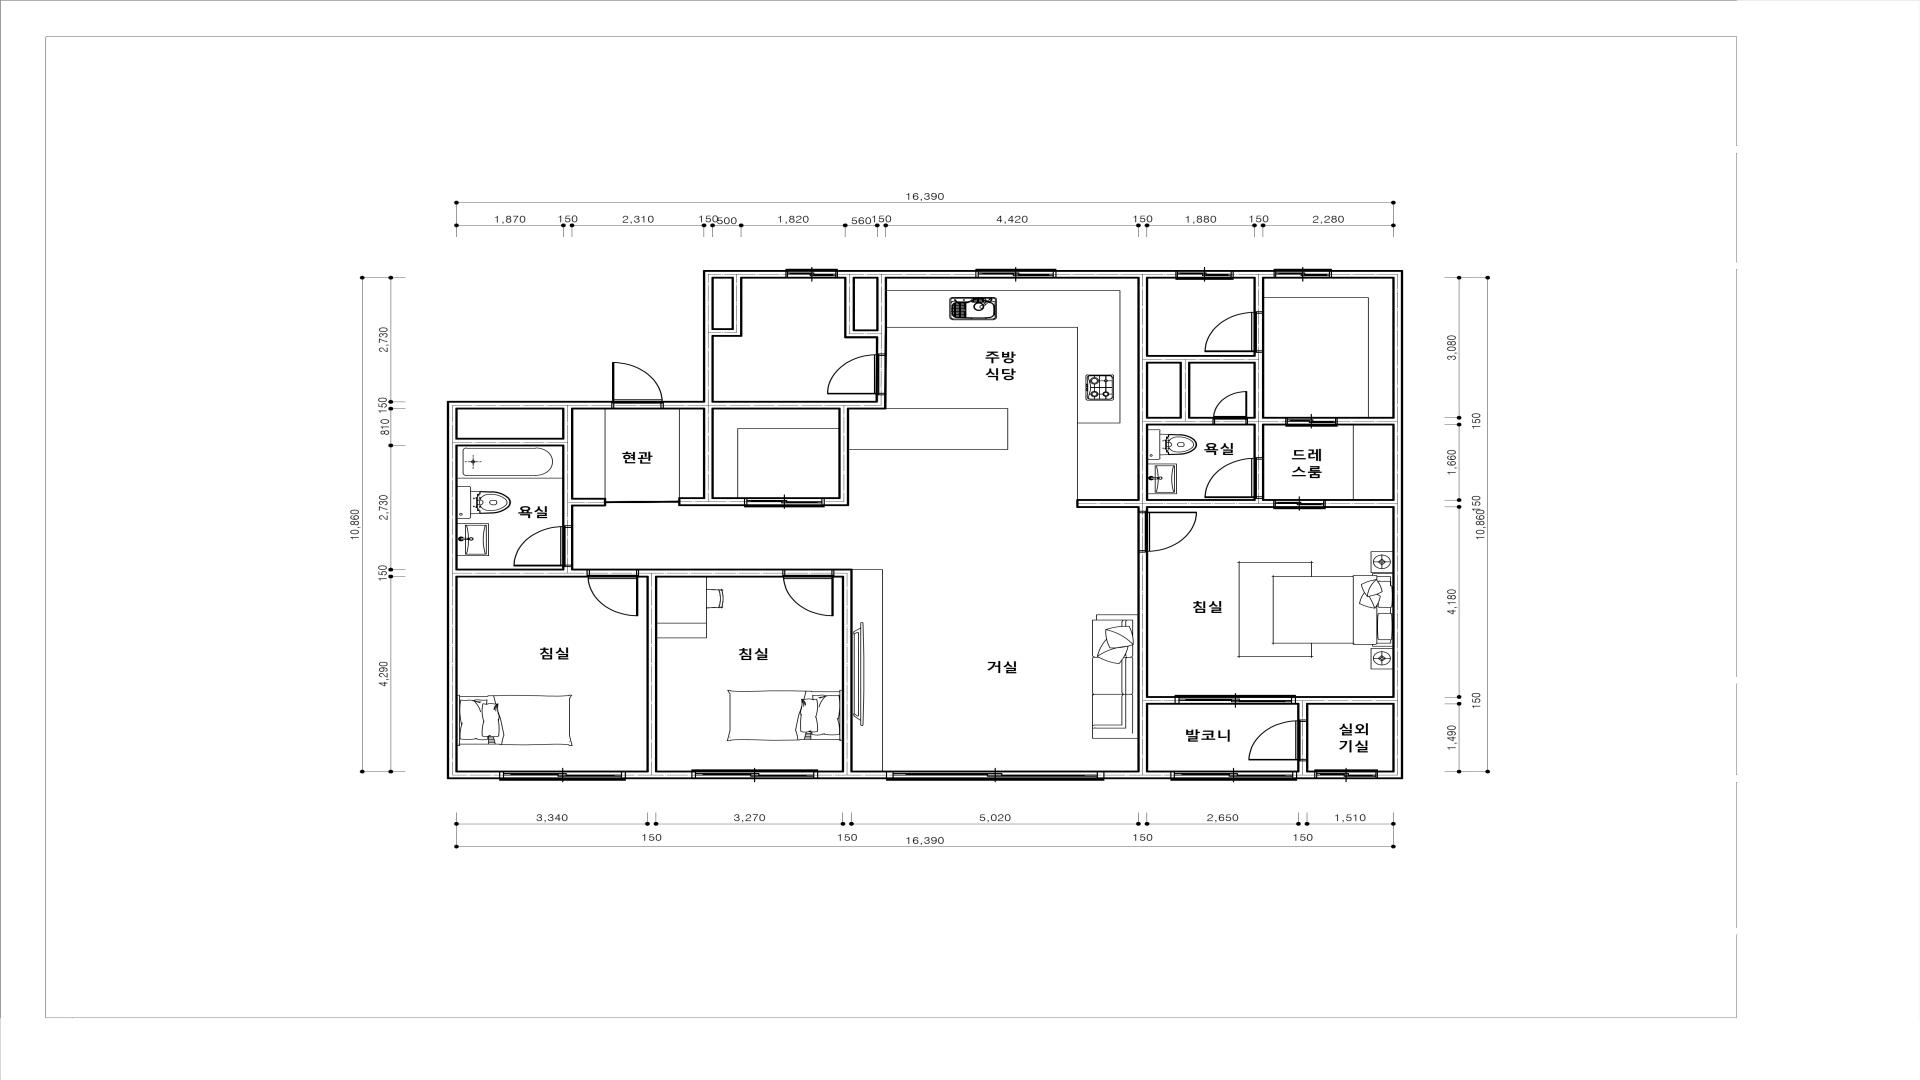door: (1137, 510, 1197, 553), (1204, 311, 1265, 353), (827, 353, 887, 396), (612, 361, 663, 410), (587, 568, 640, 616), (1204, 458, 1265, 498), (513, 526, 574, 567), (783, 568, 835, 616), (1249, 720, 1308, 761), (1213, 392, 1247, 426), (744, 497, 825, 508), (1286, 417, 1337, 427), (1274, 500, 1325, 509)
wall: (1393, 278, 1403, 770), (447, 410, 458, 779), (1138, 278, 1149, 498), (1138, 553, 1149, 770), (646, 578, 658, 770), (841, 578, 853, 770), (1076, 498, 1273, 508), (447, 401, 611, 410), (715, 401, 876, 410), (562, 410, 574, 525), (640, 568, 782, 578), (703, 278, 713, 401), (458, 568, 587, 578), (839, 270, 976, 278), (458, 438, 563, 447), (1149, 355, 1253, 364), (1056, 270, 1175, 278), (839, 410, 849, 497), (703, 410, 713, 497), (876, 278, 887, 353), (1296, 696, 1393, 704), (1254, 353, 1265, 417), (703, 270, 786, 278), (818, 770, 886, 779), (844, 280, 855, 339), (1327, 498, 1393, 508), (1104, 770, 1170, 779), (678, 497, 744, 506), (1149, 417, 1213, 426), (626, 770, 691, 779), (1332, 270, 1403, 278), (1180, 364, 1191, 417), (732, 278, 742, 328), (1338, 417, 1393, 426), (665, 401, 715, 410), (458, 770, 500, 779), (1254, 278, 1265, 311), (1249, 417, 1286, 426), (1254, 426, 1265, 458), (1234, 270, 1274, 278), (713, 328, 742, 338), (574, 498, 607, 506), (1149, 696, 1175, 705), (825, 497, 849, 506), (1378, 771, 1403, 779), (855, 330, 876, 339), (835, 568, 853, 578), (1296, 770, 1313, 779), (876, 396, 886, 410), (1298, 705, 1308, 719), (1298, 761, 1308, 770), (1138, 508, 1149, 510), (562, 567, 574, 568)
window: (886, 771, 1104, 781), (691, 769, 818, 779), (500, 770, 625, 781), (1171, 770, 1296, 781), (1175, 695, 1296, 705), (976, 269, 1056, 278), (1315, 769, 1378, 779), (1176, 270, 1234, 280), (1274, 269, 1332, 278), (786, 269, 839, 278)
